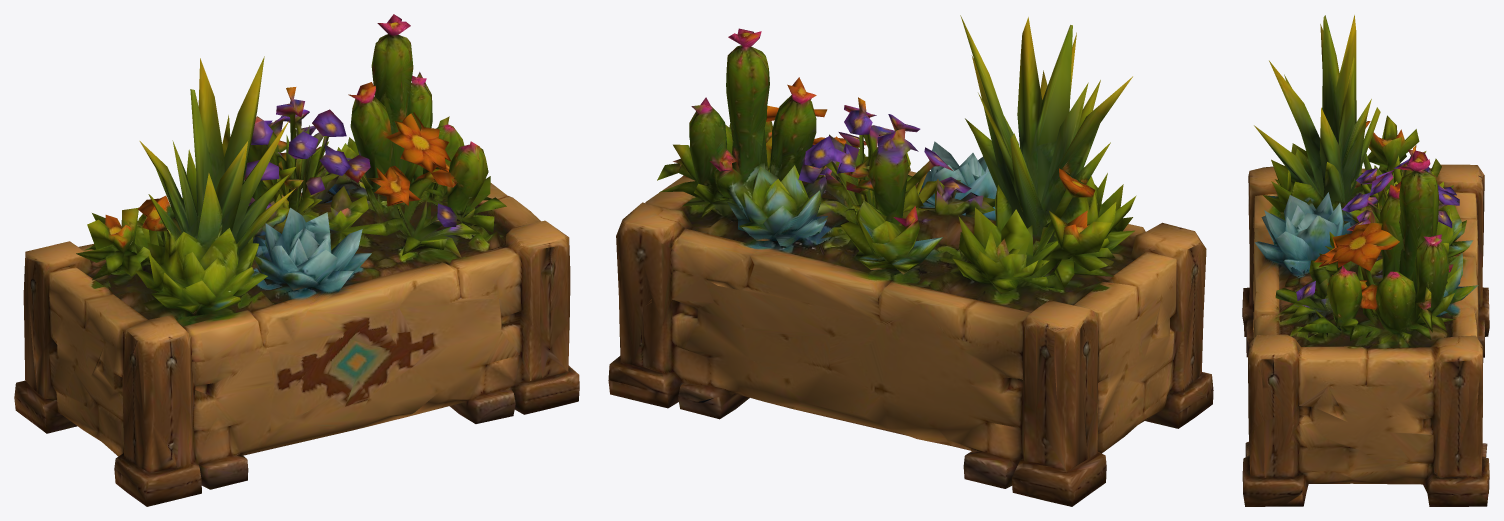
File: maceta_estilizada.glb
3 views of the same model, side by side, from view 1: azimuth 30°, elevation 25°; view 2: azimuth 150°, elevation 25°; view 3: azimuth 270°, elevation 25° (orthographic). The views are drawn at different scales.
Parts seen in each view (by area): view 1: maceta_estilizada; view 2: maceta_estilizada; view 3: maceta_estilizada.
Part boxes in pixels (x1,y1,x2,y2): maceta_estilizada: (14, 14, 579, 506); maceta_estilizada: (608, 15, 1213, 506); maceta_estilizada: (1242, 15, 1489, 506).
Size of what is drawn, in the model's own units: 0.608 by 0.5027 by 0.3228.
1 material, 1 textured.
